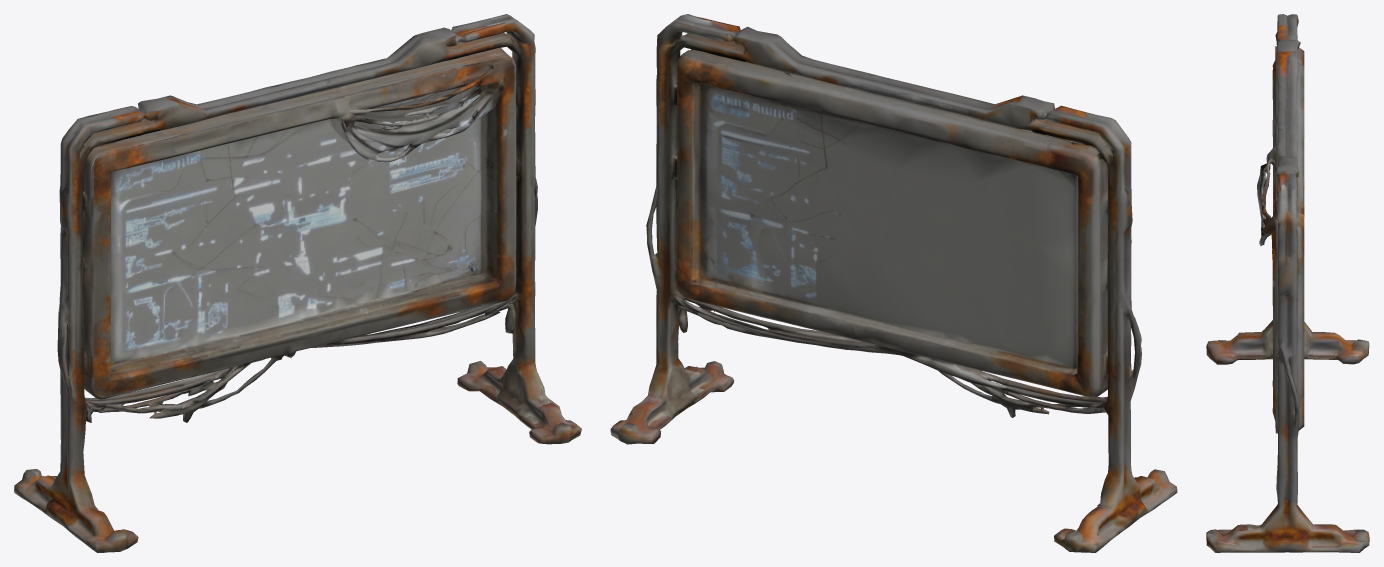
Rendered from rustic_display.fbx.
3 views of the same model, side by side, from view 1: azimuth 30°, elevation 25°; view 2: azimuth 150°, elevation 25°; view 3: azimuth 270°, elevation 25° (orthographic). The views are drawn at different scales.
Visible parts, largest first — view 1: Mesh_0; view 2: Mesh_0; view 3: Mesh_0.
Boxes of the visible parts, left/top/right/bottom form: Mesh_0: left=14, top=14, right=581, bottom=552; Mesh_0: left=610, top=14, right=1177, bottom=552; Mesh_0: left=1206, top=14, right=1369, bottom=552.
Size of the model in its own units: 201 by 157 by 67.03.
Materials: 1 (1 with a texture image).
